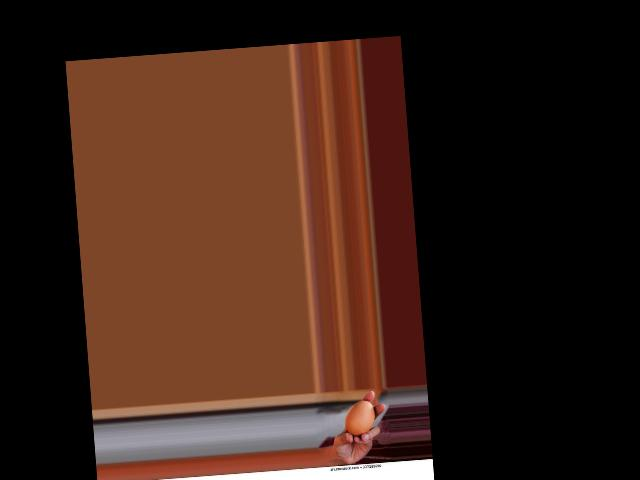egg: (344, 399, 377, 436)
